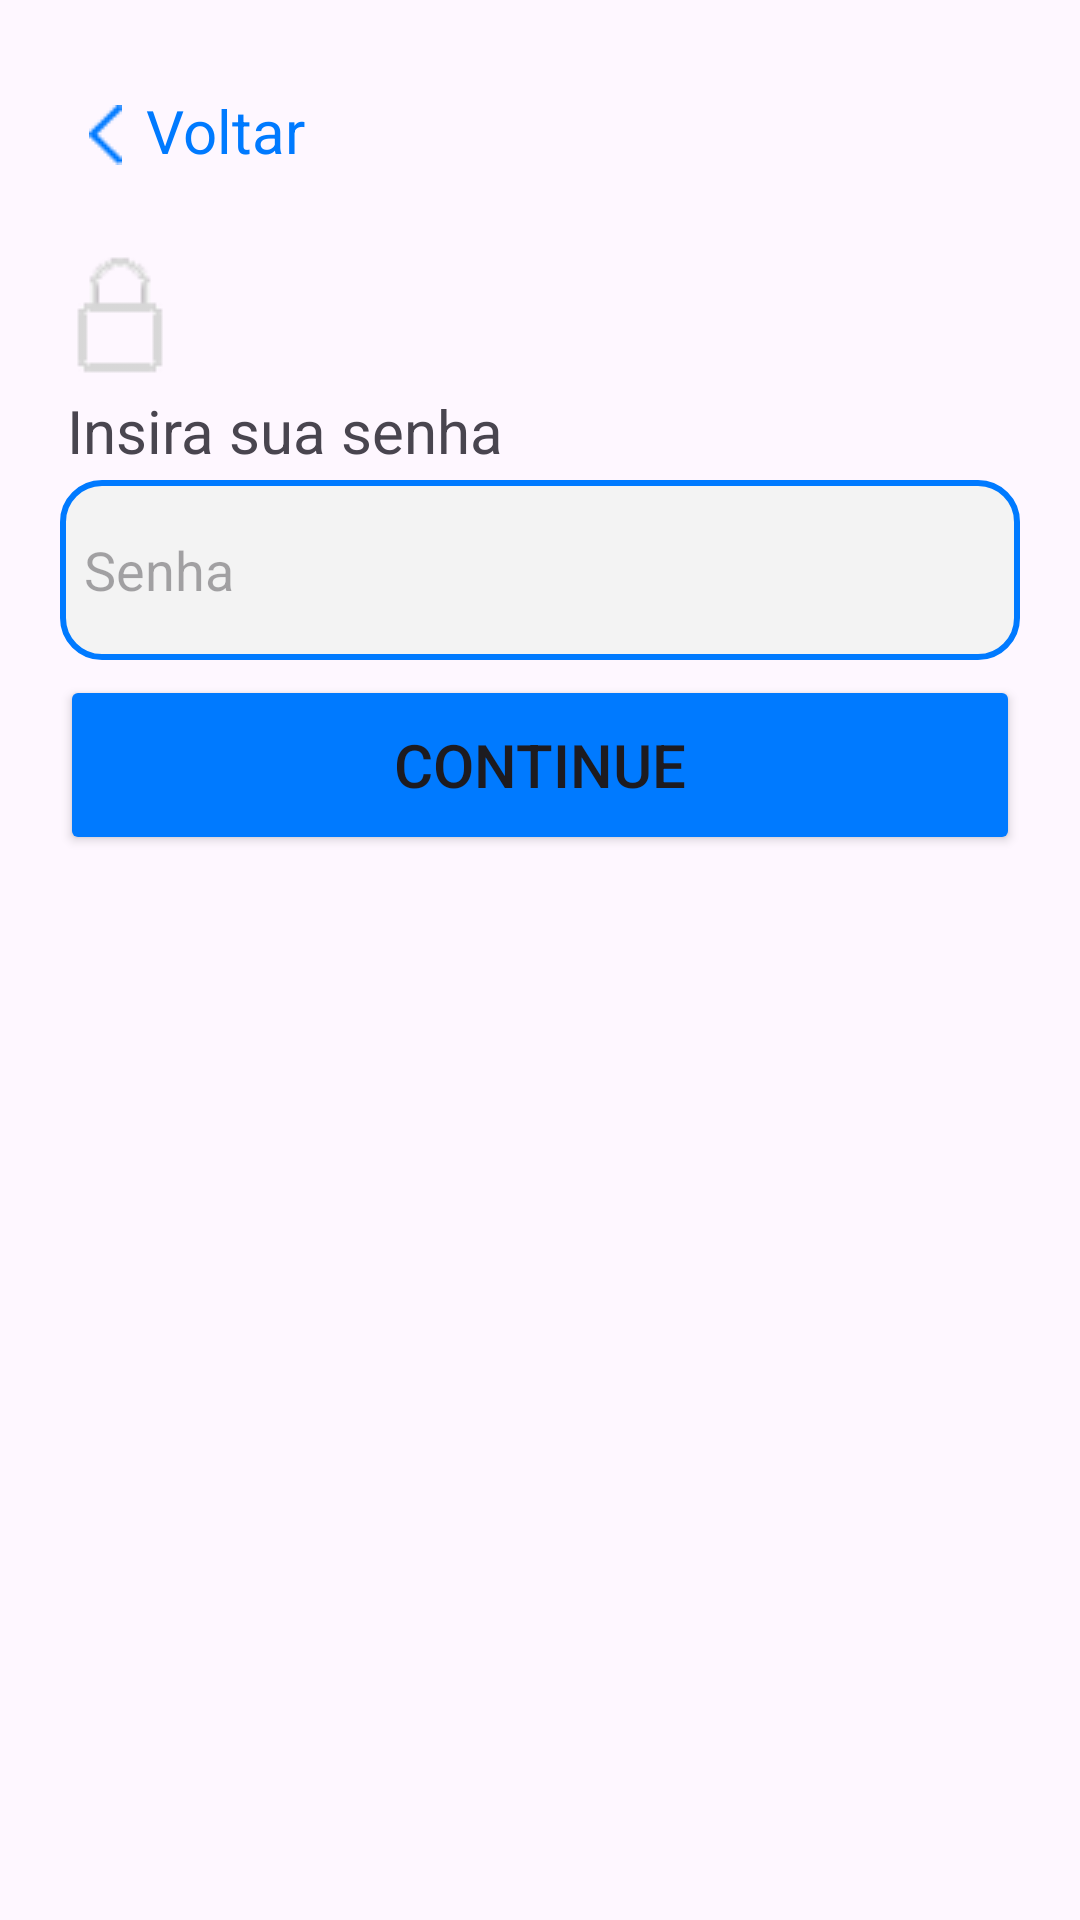

Icon click points for this 1080x1920 phone screenshot, format point (x, y):
cadeado: point (120, 315)
